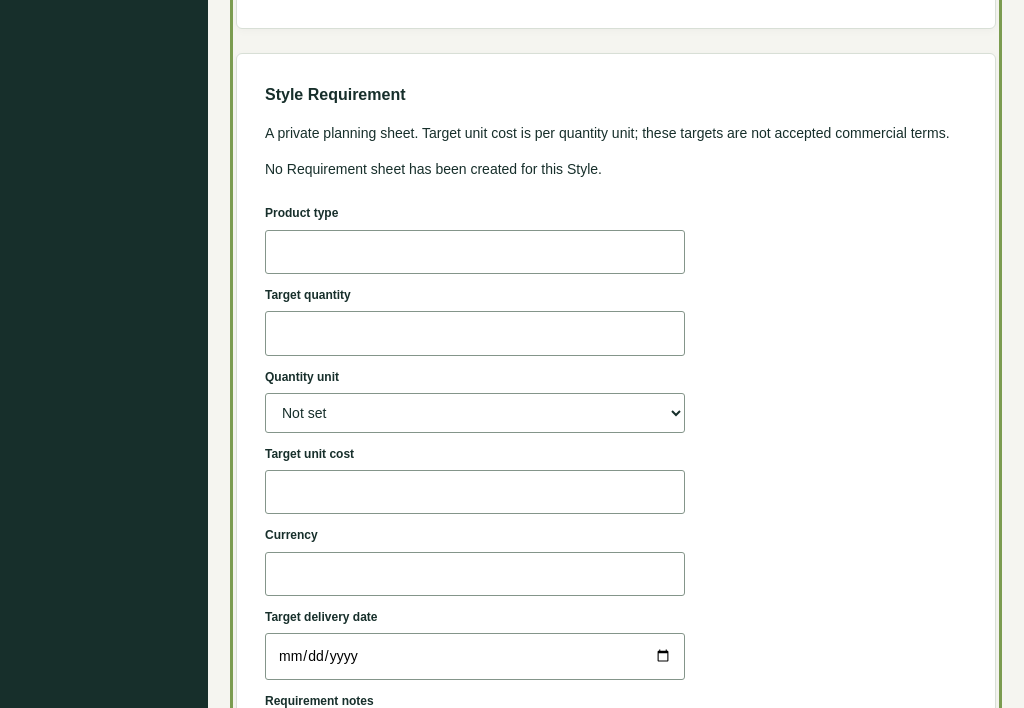
Test: invalid decimal 1e3 cannot mutate
(page scrolled)
In the field labelled "Target quantity": (475, 334) [265,311,685,356], type "1e3"
(page scrolled)
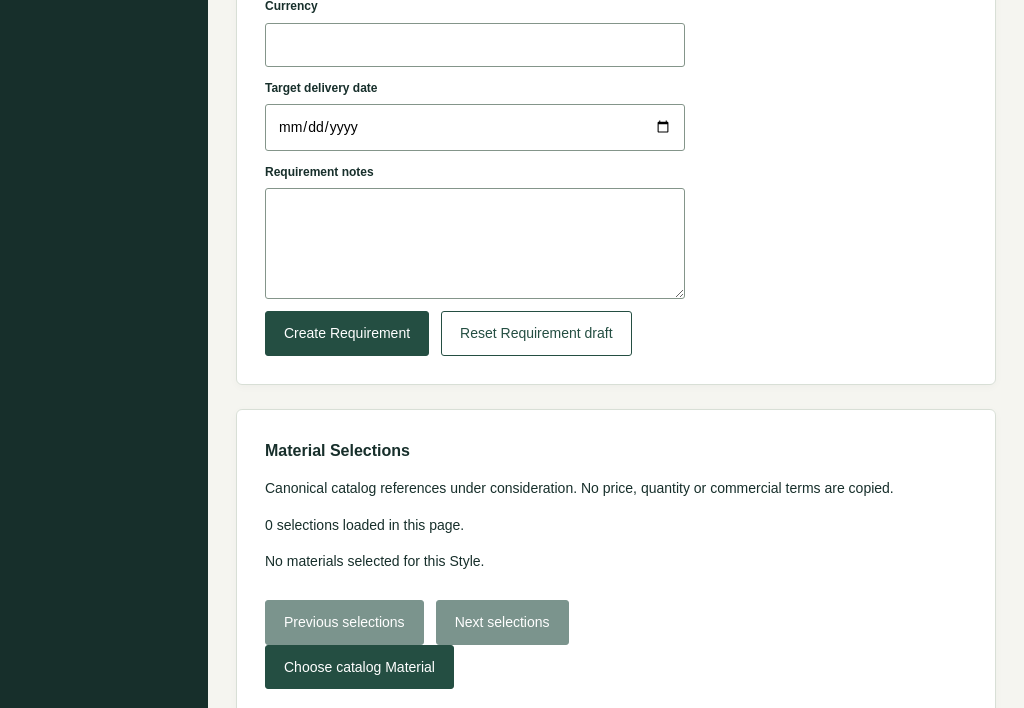
Click the button "Create Requirement": (347, 334) [265,311,429,356]
(page scrolled)
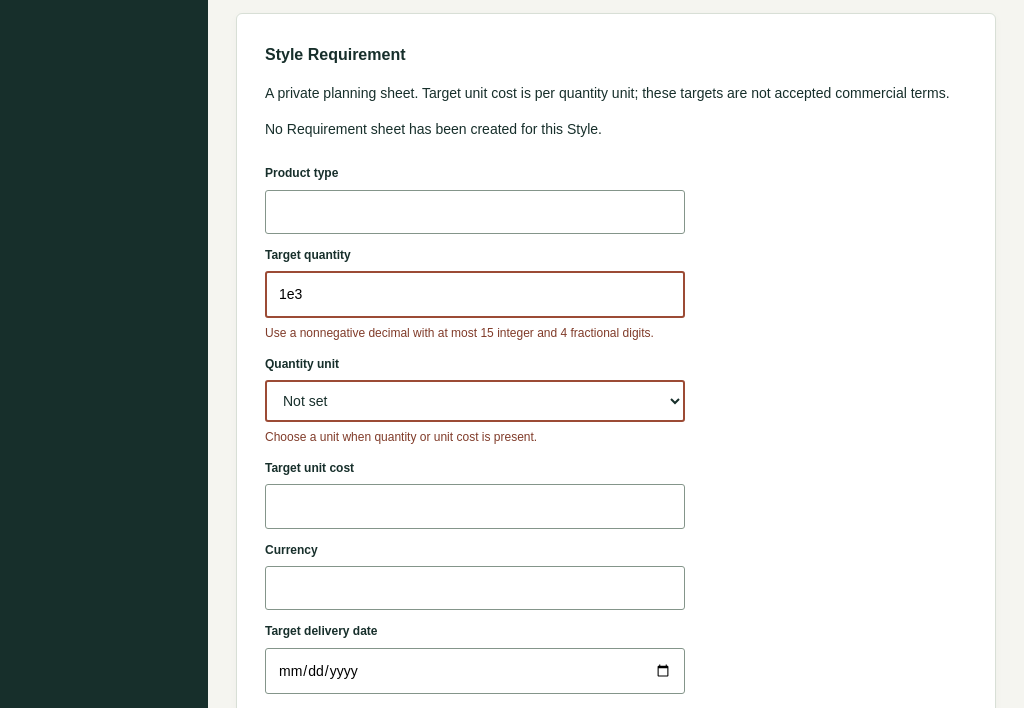
Expected: the message "Use a nonnegative decimal with at most 15 integer and 4 fractional digits." is shown, [265,324,685,343]
